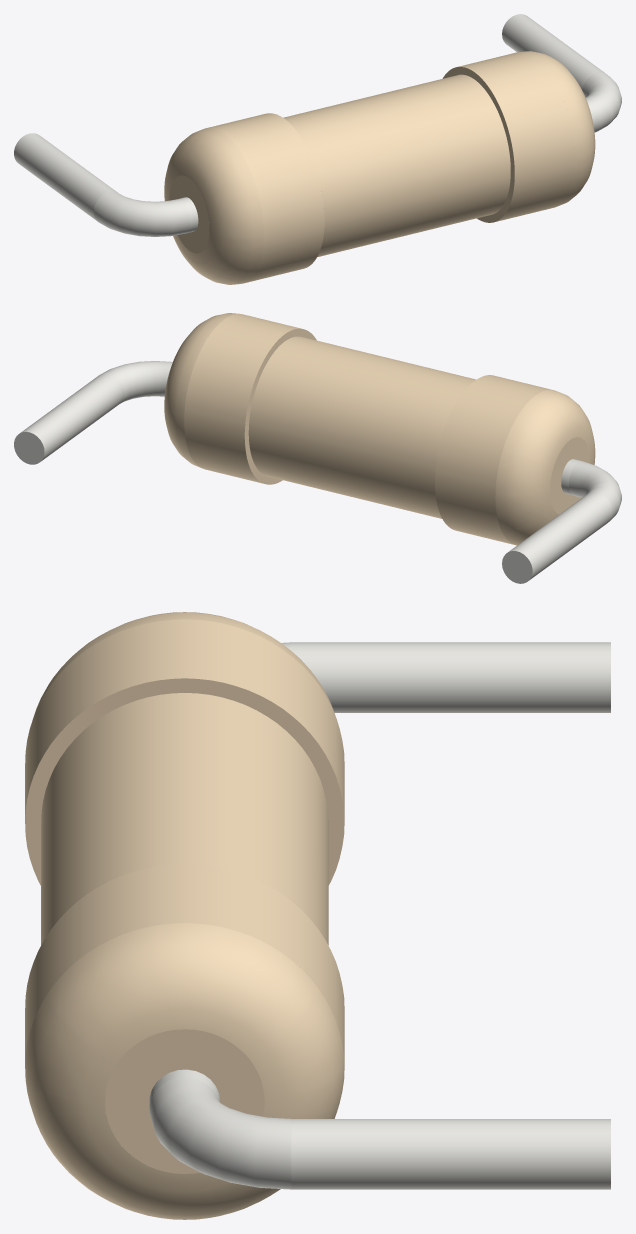
The model's file is R_Axial_DIN0411_L9.9mm_D3.6mm_P12.70mm_Horizontal.glb.
The picture shows the model from 3 angles, top to bottom: view 1: azimuth 30°, elevation 25°; view 2: azimuth 150°, elevation 25°; view 3: azimuth 270°, elevation 25°; orthographic projection. The views are drawn at different scales.
Visible parts, largest first — view 1: Shape_IndexedFaceSet.004, Shape_IndexedFaceSet.008, Shape_IndexedFaceSet, Shape_IndexedFaceSet.001, Shape_IndexedFaceSet.009, Shape_IndexedFaceSet.007, Shape_IndexedFaceSet.010, Shape_IndexedFaceSet.015, Shape_IndexedFaceSet.014, Shape_IndexedFaceSet.003, Shape_IndexedFaceSet.006; view 2: Shape_IndexedFaceSet.004, Shape_IndexedFaceSet.008, Shape_IndexedFaceSet, Shape_IndexedFaceSet.001, Shape_IndexedFaceSet.009, Shape_IndexedFaceSet.015, Shape_IndexedFaceSet.010, Shape_IndexedFaceSet.014, Shape_IndexedFaceSet.007, Shape_IndexedFaceSet.003, Shape_IndexedFaceSet.006, Shape_IndexedFaceSet.011 (+1 smaller); view 3: Shape_IndexedFaceSet.010, Shape_IndexedFaceSet.004, Shape_IndexedFaceSet.015, Shape_IndexedFaceSet.009, Shape_IndexedFaceSet, Shape_IndexedFaceSet.008, Shape_IndexedFaceSet.012, Shape_IndexedFaceSet.014, Shape_IndexedFaceSet.002, Shape_IndexedFaceSet.001.
Boxes of the visible parts, x1=… form: Shape_IndexedFaceSet.004: x1=283, y1=74, x2=510, y2=257; Shape_IndexedFaceSet.008: x1=458, y1=52, x2=575, y2=221; Shape_IndexedFaceSet: x1=206, y1=113, x2=324, y2=283; Shape_IndexedFaceSet.001: x1=164, y1=128, x2=263, y2=284; Shape_IndexedFaceSet.009: x1=14, y1=133, x2=117, y2=221; Shape_IndexedFaceSet.007: x1=94, y1=191, x2=190, y2=236; Shape_IndexedFaceSet.010: x1=522, y1=51, x2=595, y2=205; Shape_IndexedFaceSet.015: x1=502, y1=14, x2=605, y2=89; Shape_IndexedFaceSet.014: x1=582, y1=72, x2=621, y2=132; Shape_IndexedFaceSet.003: x1=169, y1=175, x2=209, y2=253; Shape_IndexedFaceSet.006: x1=442, y1=67, x2=514, y2=222; Shape_IndexedFaceSet.004: x1=248, y1=336, x2=476, y2=518; Shape_IndexedFaceSet.008: x1=184, y1=314, x2=300, y2=483; Shape_IndexedFaceSet: x1=435, y1=375, x2=551, y2=544; Shape_IndexedFaceSet.001: x1=495, y1=390, x2=595, y2=545; Shape_IndexedFaceSet.009: x1=508, y1=492, x2=612, y2=580; Shape_IndexedFaceSet.015: x1=20, y1=373, x2=124, y2=461; Shape_IndexedFaceSet.010: x1=164, y1=313, x2=239, y2=467; Shape_IndexedFaceSet.014: x1=101, y1=361, x2=172, y2=403; Shape_IndexedFaceSet.007: x1=569, y1=461, x2=621, y2=520; Shape_IndexedFaceSet.003: x1=550, y1=437, x2=589, y2=514; Shape_IndexedFaceSet.006: x1=244, y1=328, x2=316, y2=484; Shape_IndexedFaceSet.011: x1=502, y1=551, x2=532, y2=583; Shape_IndexedFaceSet.010: x1=25, y1=923, x2=344, y2=1219; Shape_IndexedFaceSet.004: x1=41, y1=693, x2=328, y2=945; Shape_IndexedFaceSet.015: x1=291, y1=1119, x2=610, y2=1189; Shape_IndexedFaceSet.009: x1=291, y1=642, x2=610, y2=712; Shape_IndexedFaceSet: x1=25, y1=619, x2=344, y2=822; Shape_IndexedFaceSet.008: x1=25, y1=864, x2=344, y2=1066; Shape_IndexedFaceSet.012: x1=105, y1=1029, x2=264, y2=1173; Shape_IndexedFaceSet.014: x1=149, y1=1077, x2=291, y2=1189; Shape_IndexedFaceSet.002: x1=25, y1=678, x2=344, y2=885; Shape_IndexedFaceSet.001: x1=34, y1=612, x2=334, y2=715.
Size of the model in its own units: 5.31 by 1.42 by 2.6.
